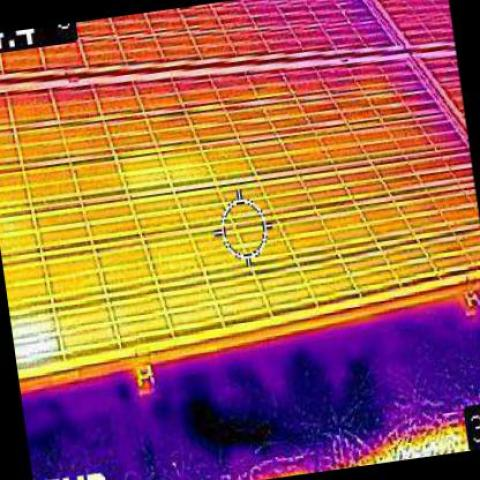fault: (20, 310, 53, 366)
